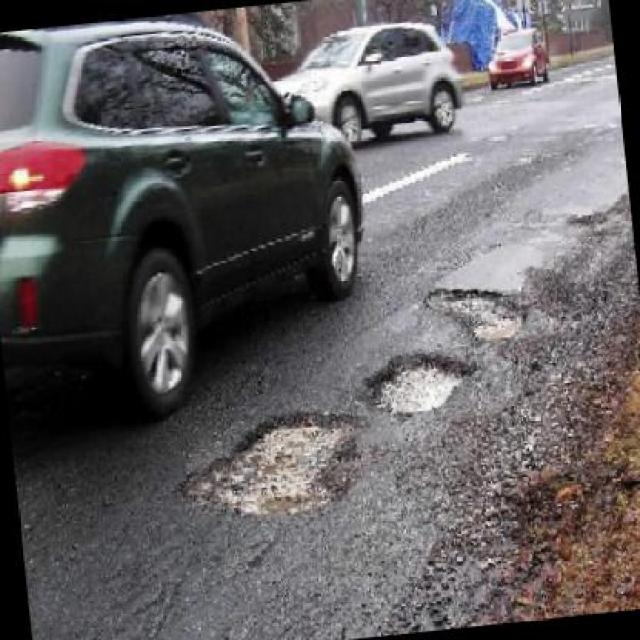pothole1: (170, 396, 375, 532), (356, 341, 476, 422), (419, 273, 532, 350)
